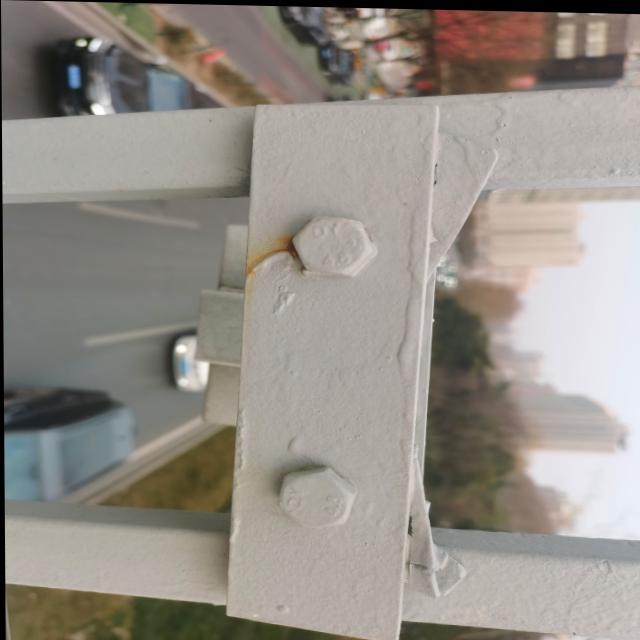Regular bolt: (292, 215, 376, 275), (276, 467, 353, 530)
